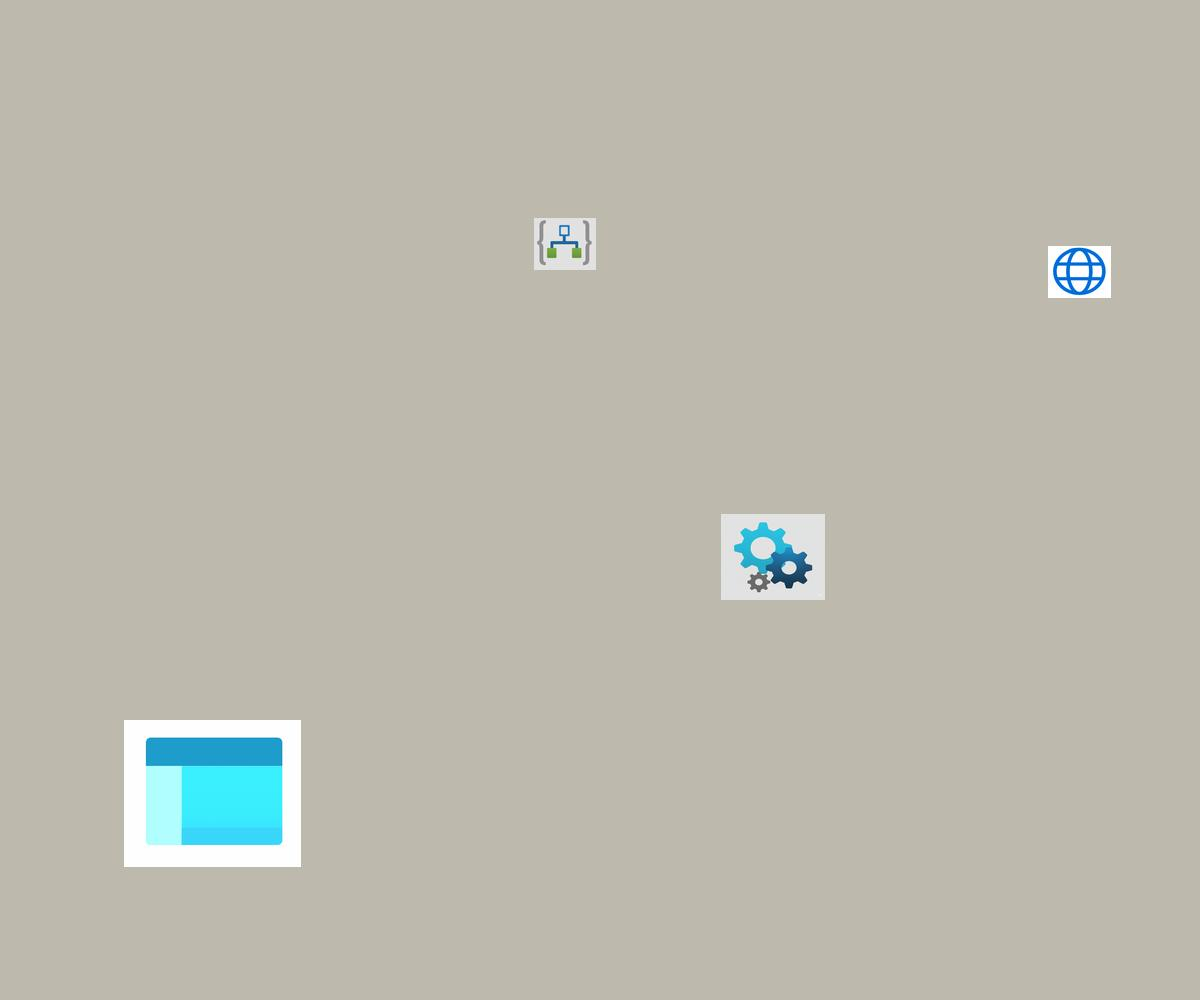Azure_api: (721, 514, 825, 600)
Azure_http: (1048, 246, 1111, 298)
Azure_integration-204-Logic-Apps: (534, 218, 596, 270)
Azure_management-portal: (124, 720, 301, 867)
